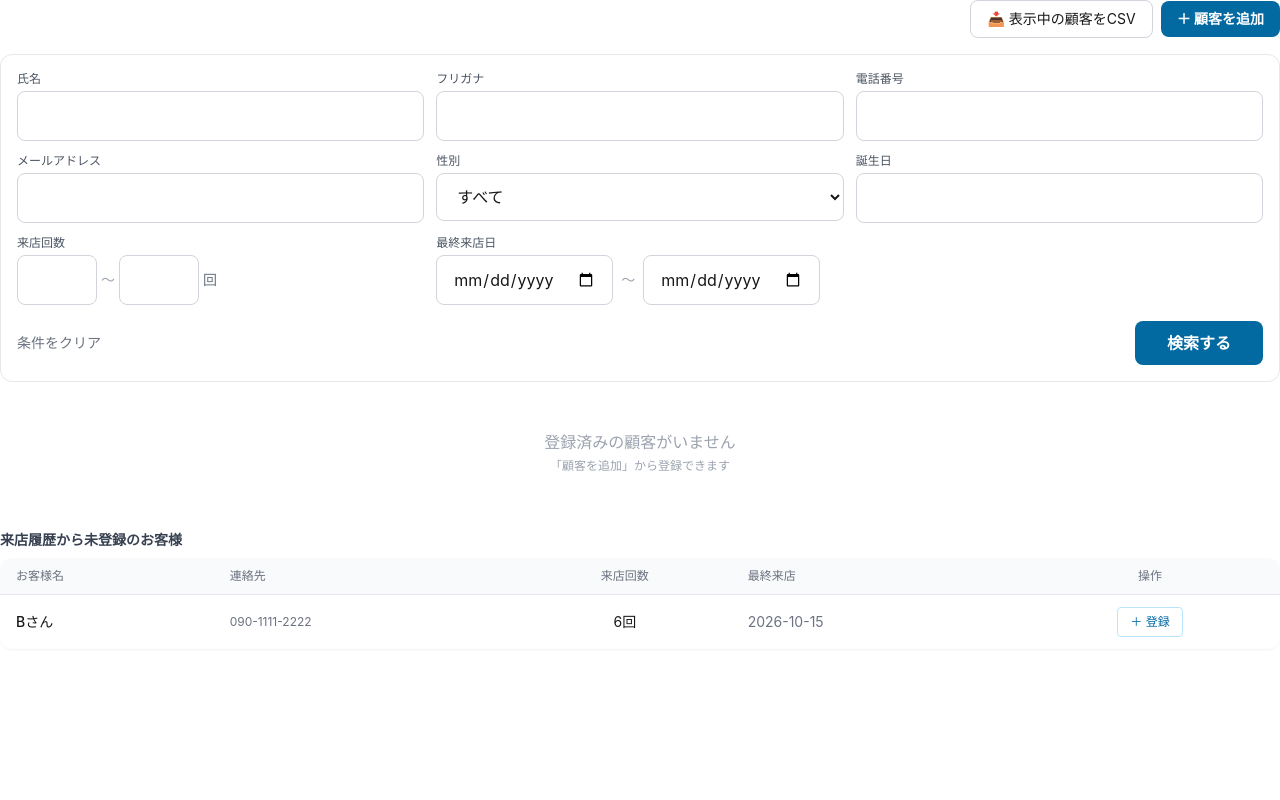
Scenario: 電話番号だけのお客様は電話番号を表示し、「＋ 登録」で氏名と電話番号を引き継ぐ
Expected: the text "090-1111-2222" is shown, [230,614,312,629]
Click the button "＋ 登録" at (1150, 622), box [1117,607,1183,637]
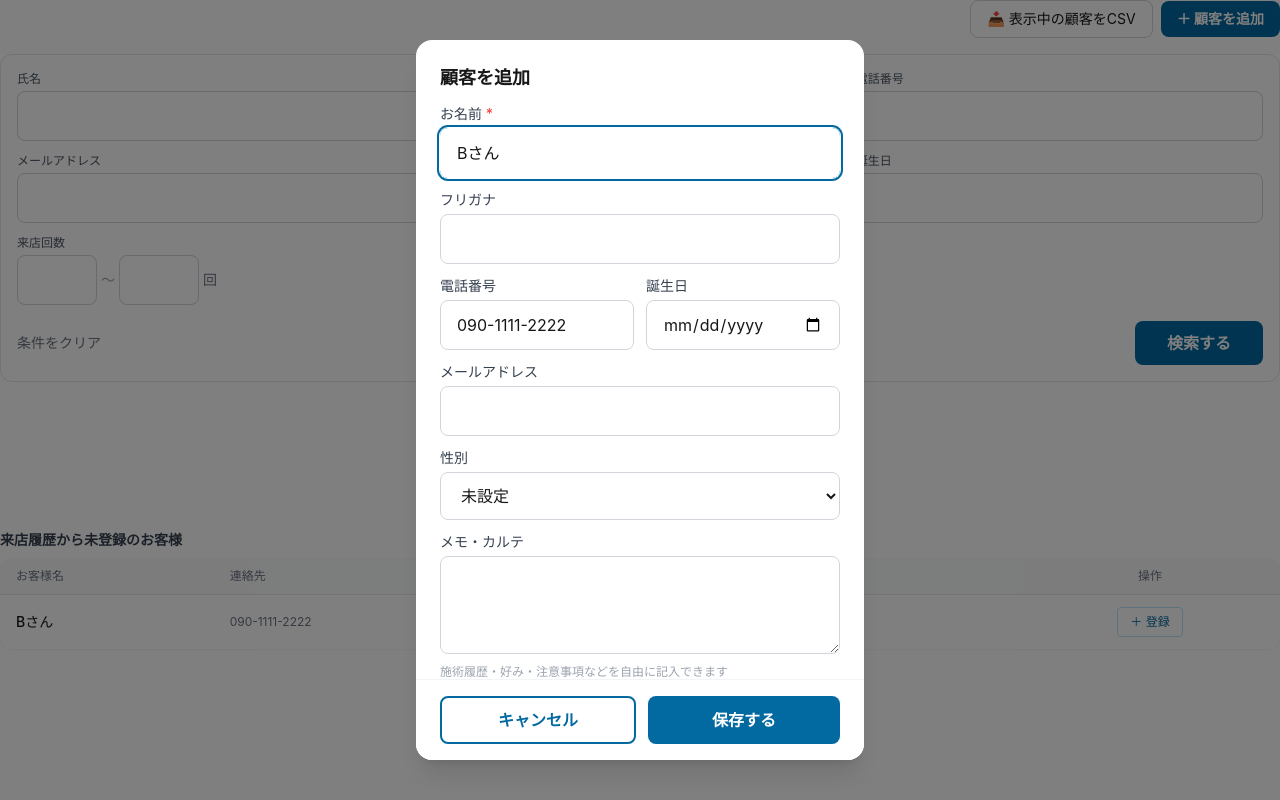
Expected: the field labelled "メールアドレス" is empty, [440,386,840,436]
Expected: the field labelled "お名前 *" holds "Bさん", [440,128,840,178]
Expected: the field labelled "電話番号" holds "090-1111-2222", [440,300,634,350]
